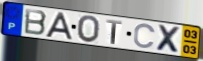A: (44, 11, 74, 42)
B: (23, 7, 48, 36)
C: (133, 23, 157, 50)
O: (76, 14, 101, 44)
T: (106, 18, 124, 46)
X: (155, 24, 182, 55)
